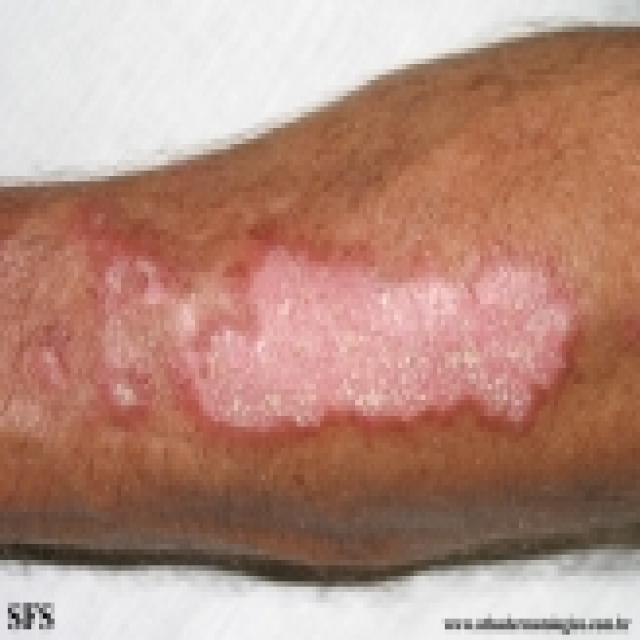lupus: (49, 186, 586, 462)
